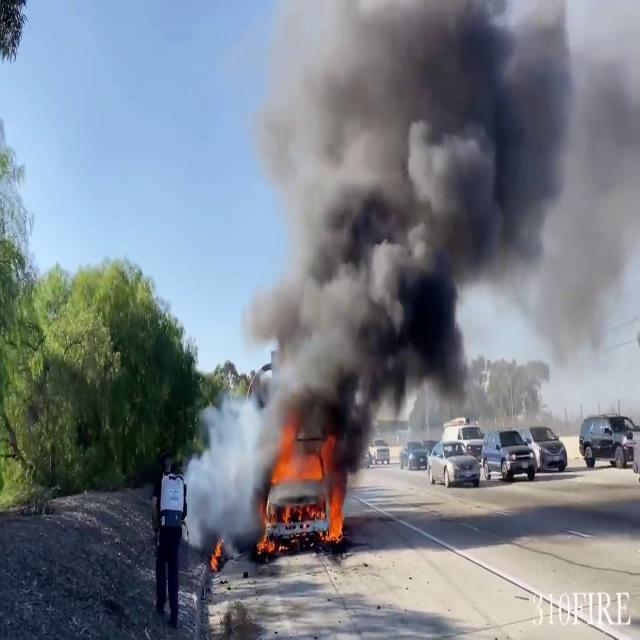Fire: (263, 426, 349, 549)
Smoke: (234, 0, 577, 461), (180, 383, 276, 558)
